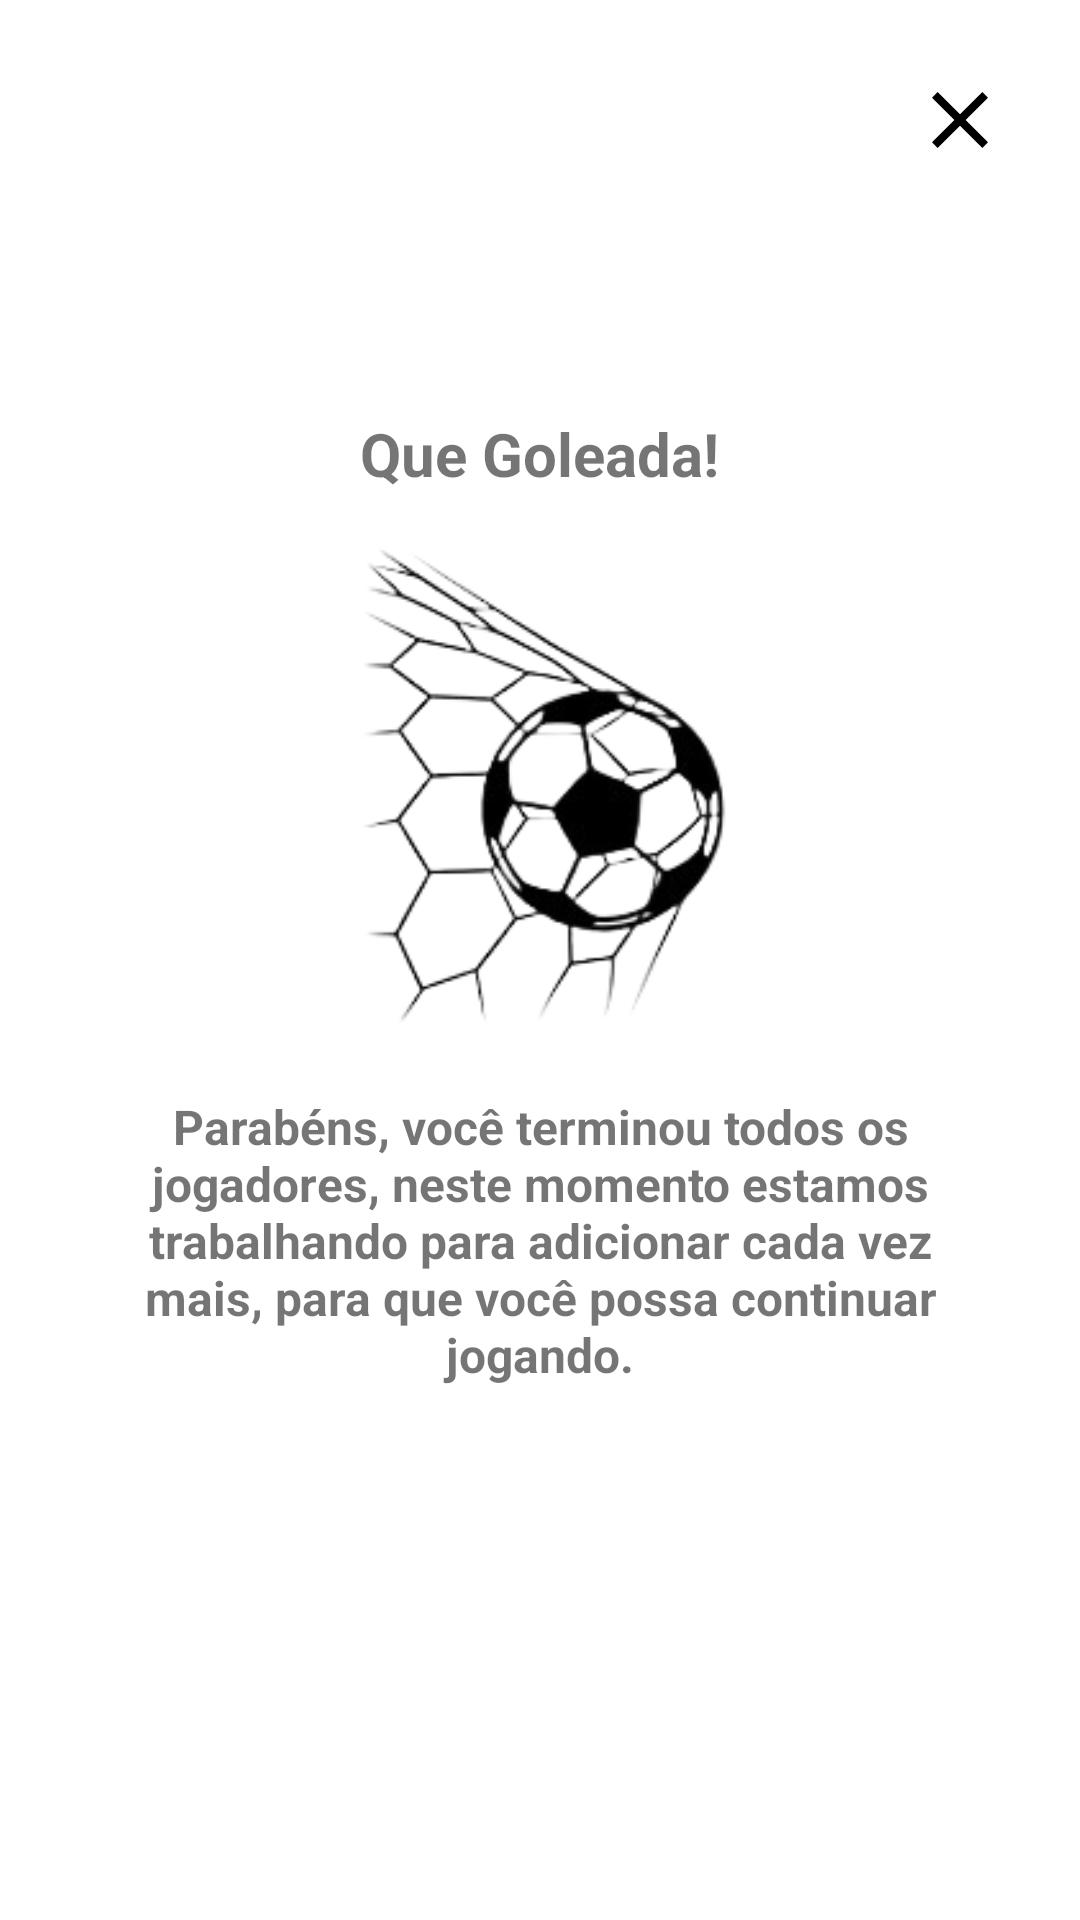

Point at icon controls on the screen. Image size 1080*1920, points as point (x, y).
close: point (960, 120)
